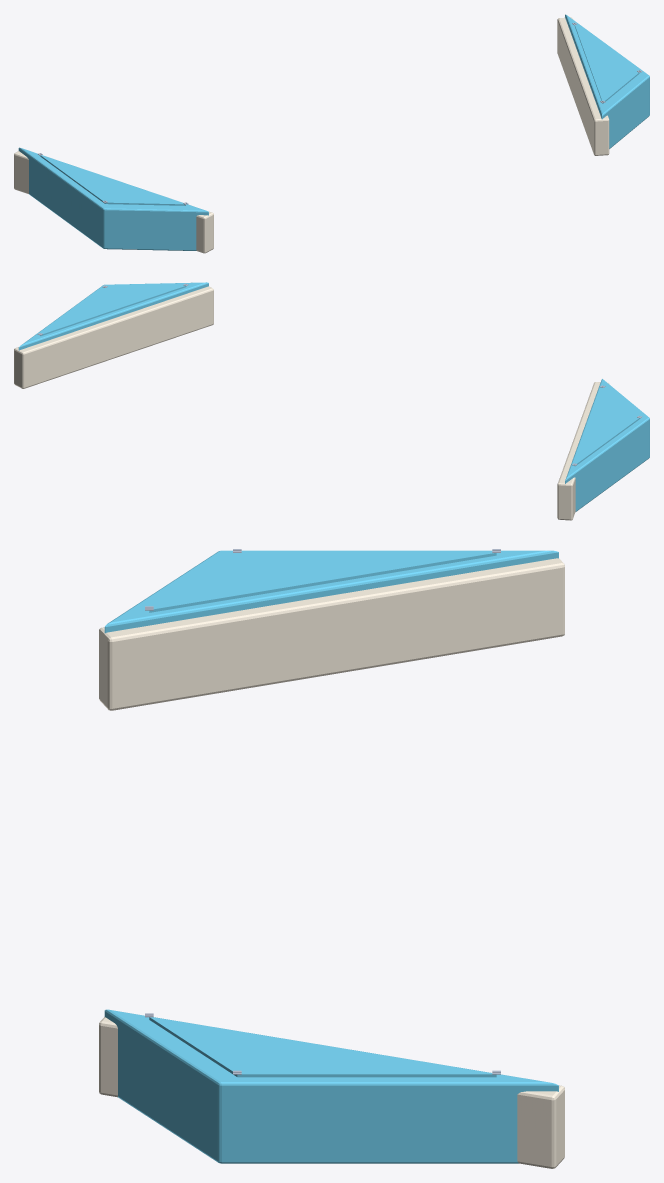
File: Space_Slingshots.glb
3 views of the same model, one above another, from view 1: azimuth 30°, elevation 25°; view 2: azimuth 150°, elevation 25°; view 3: azimuth 270°, elevation 25° (orthographic). The views are drawn at different scales.
Parts seen in each view (by area): view 1: SlingBody1, SlingBody2, Sling2, Sling1; view 2: Sling2, SlingBody1, SlingBody2, Sling1; view 3: SlingBody2, Sling1, SlingBody1, Sling2.
Boxes of the visible parts, bbox=[...] form: SlingBody1: bbox=[18, 147, 208, 250]; SlingBody2: bbox=[565, 14, 649, 148]; Sling2: bbox=[557, 17, 609, 155]; Sling1: bbox=[14, 151, 213, 253]; Sling2: bbox=[14, 286, 213, 388]; SlingBody1: bbox=[565, 379, 649, 511]; SlingBody2: bbox=[18, 282, 208, 350]; Sling1: bbox=[557, 382, 608, 520]; SlingBody2: bbox=[104, 1009, 558, 1163]; Sling1: bbox=[99, 558, 564, 710]; SlingBody1: bbox=[104, 550, 558, 633]; Sling2: bbox=[99, 1017, 564, 1168].
Bounding box in the file's own units: 0.4017 × 0.0297 × 0.1452.
